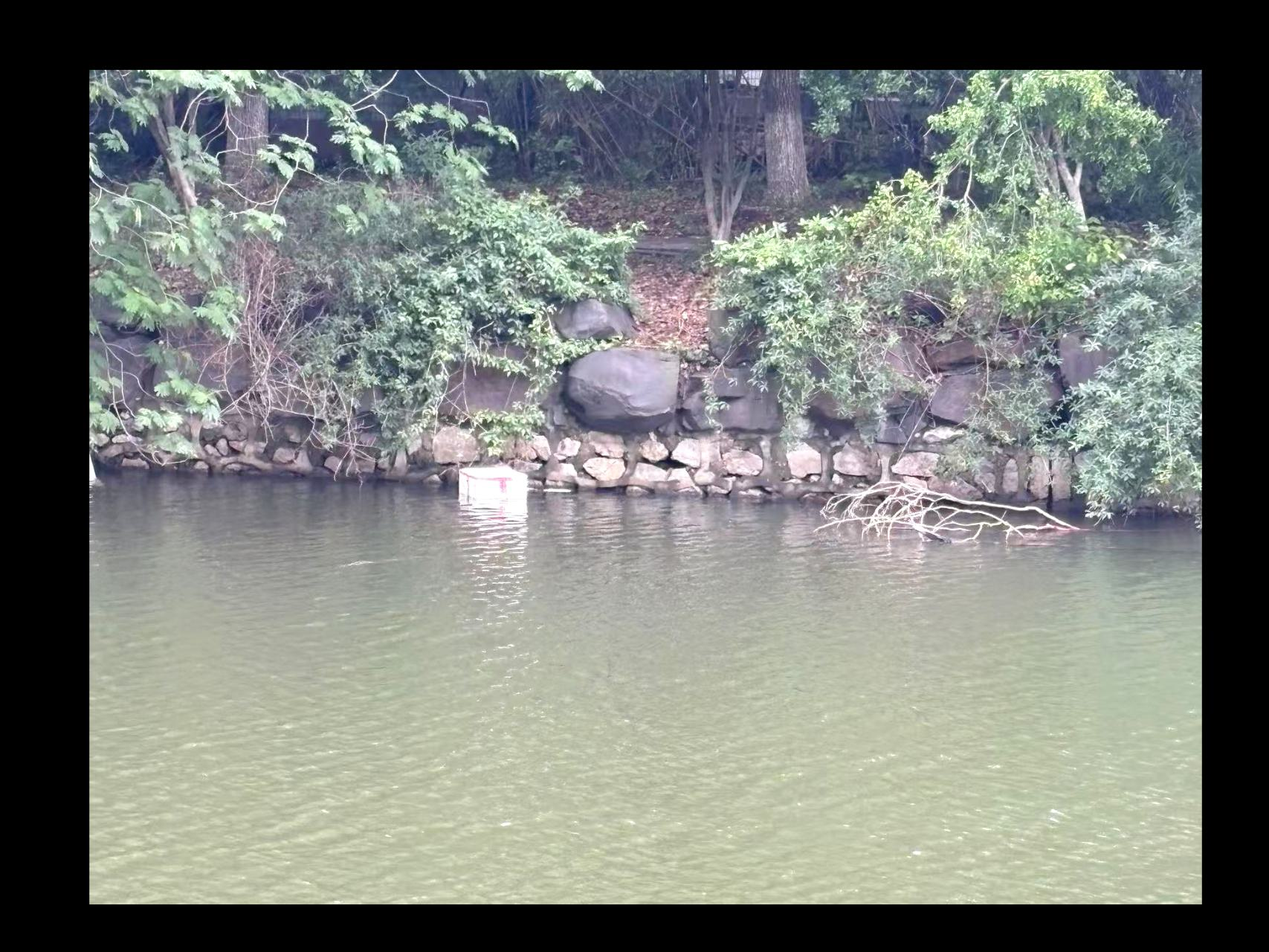Plastic wastes: (456, 458, 531, 507)
